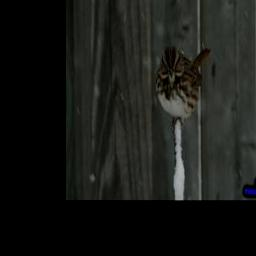Sparrow: (155, 45, 211, 130)
